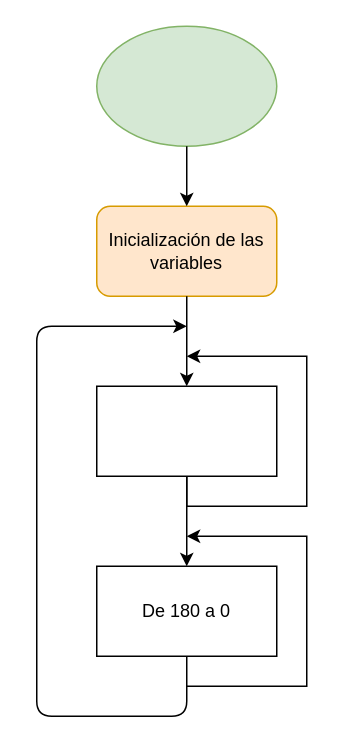
Some shapes in this 345 by 755 pixel diagram are drawn without their labels. The centre of each missing label's shape, as x and y in pixels:
"De 0 a 180" belongs at pixel 186 430.
"INICIO" belongs at pixel 186 85.
